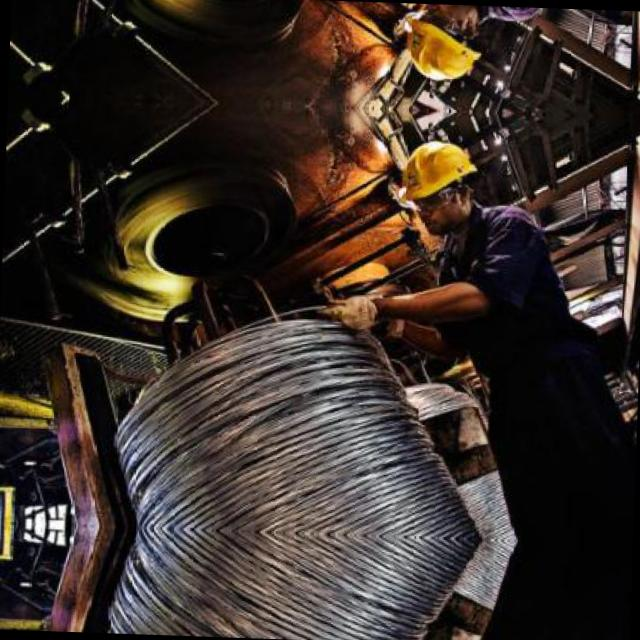helmet: (393, 128, 494, 238), (397, 3, 498, 92)
